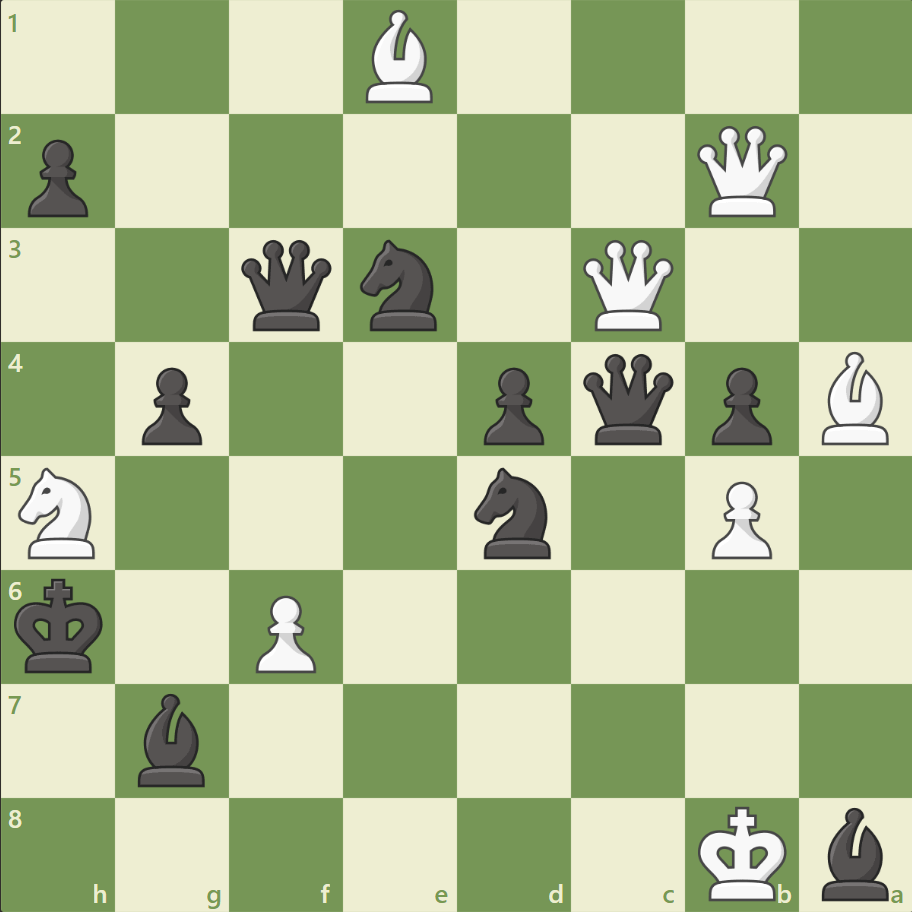B: (358, 6, 442, 109), (812, 347, 896, 449)
K: (692, 798, 792, 906)
N: (11, 461, 108, 564)
P: (247, 586, 322, 677), (701, 473, 776, 564)
Q: (691, 122, 790, 222), (578, 236, 677, 335)
b: (812, 801, 896, 904), (131, 687, 215, 790)
k: (11, 571, 111, 679)
n: (351, 234, 449, 337), (465, 461, 562, 564)
p: (701, 359, 776, 450), (474, 359, 549, 450), (133, 359, 208, 450), (20, 132, 95, 223)
q: (578, 349, 677, 449), (237, 236, 336, 335)
